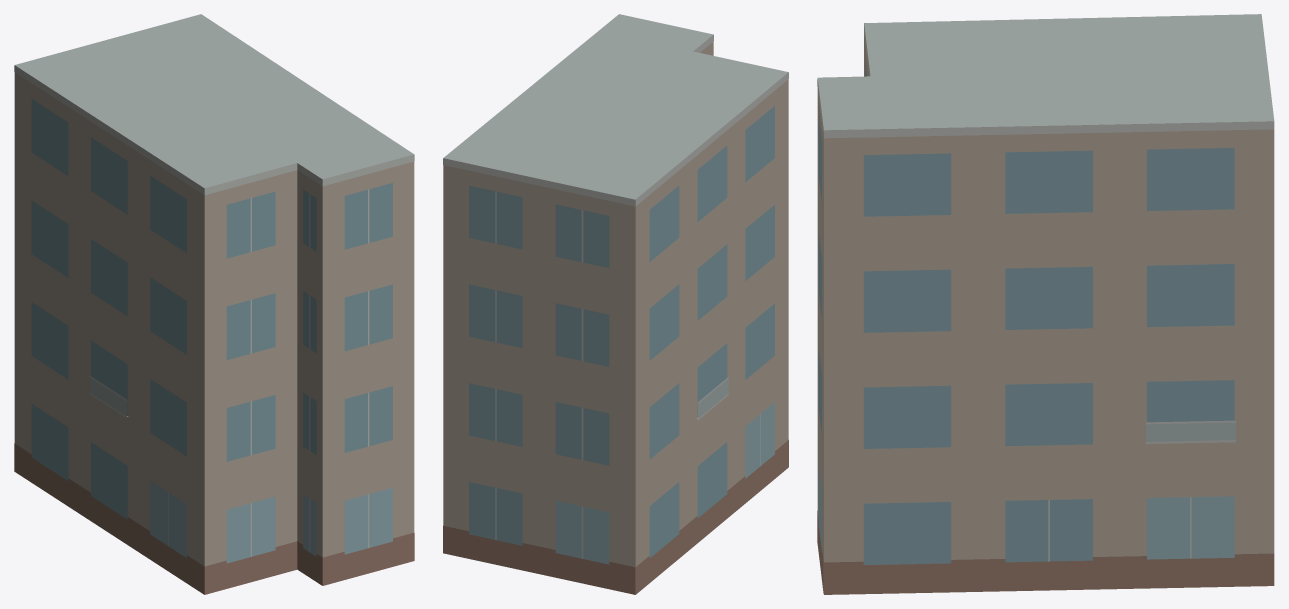
File: survey-upis-32738834.glb
3 renders of one model, left to right at view 1: azimuth 30°, elevation 25°; view 2: azimuth 150°, elevation 25°; view 3: azimuth 270°, elevation 25°, orthographic. The views are drawn at different scales.
Visible parts, largest first — view 1: survey-upis-32738834.tmp; view 2: survey-upis-32738834.tmp; view 3: survey-upis-32738834.tmp.
Part boxes in pixels (x1,y1,x2,y2): survey-upis-32738834.tmp: (14,14,414,594); survey-upis-32738834.tmp: (443,14,788,594); survey-upis-32738834.tmp: (817,14,1274,594).
Size of the model in its own units: 7.6 by 14.14 by 12.61.
